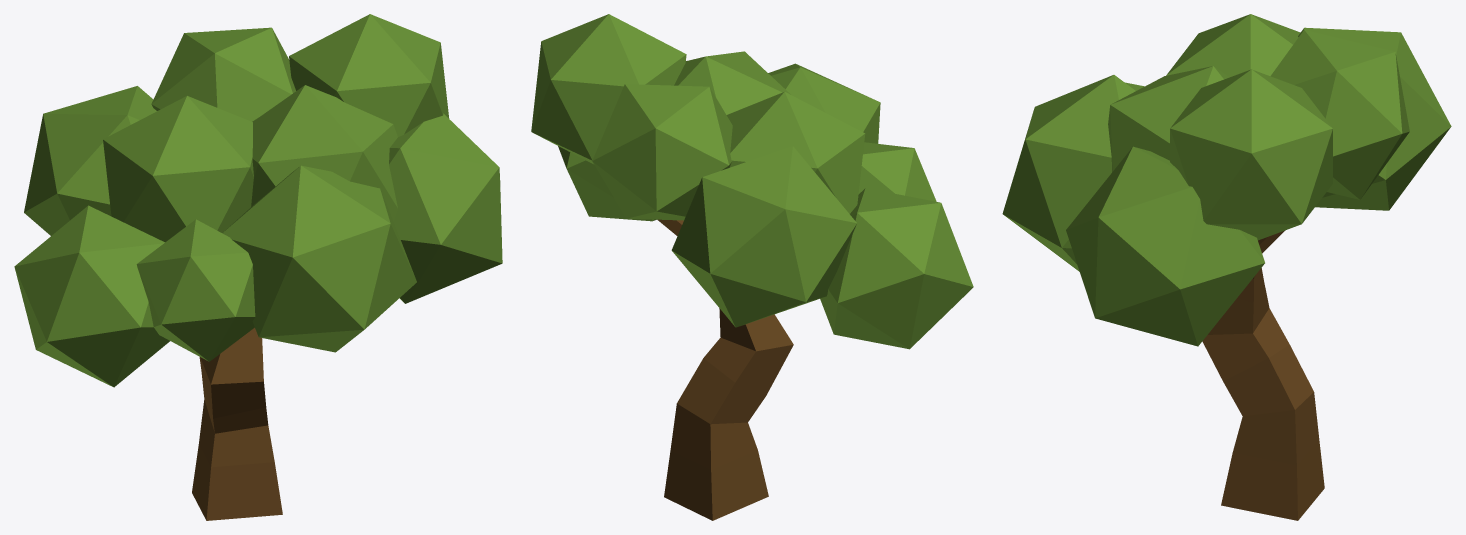
File: tree.fbx
The picture shows the model from 3 angles, left to right: view 1: azimuth 30°, elevation 25°; view 2: azimuth 150°, elevation 25°; view 3: azimuth 270°, elevation 25°; orthographic projection. The views are drawn at different scales.
Visible parts, largest first — view 1: Icosphere.005, Icosphere.003, Icosphere.006, Icosphere.004, Cube, Icosphere, Icosphere.008, Icosphere.007, Icosphere.002, Icosphere.001; view 2: Icosphere.002, Icosphere.003, Cube, Icosphere.001, Icosphere, Icosphere.006, Icosphere.007, Icosphere.005, Icosphere.008, Icosphere.004; view 3: Icosphere.004, Icosphere, Cube, Icosphere.001, Icosphere.005, Icosphere.002, Icosphere.007, Icosphere.006.
Boxes of the visible parts, x1=… form: Icosphere.005: x1=222, y1=165, x2=416, y2=352; Icosphere.003: x1=14, y1=205, x2=169, y2=387; Icosphere.006: x1=103, y1=96, x2=253, y2=242; Icosphere.004: x1=389, y1=113, x2=502, y2=303; Cube: x1=192, y1=327, x2=282, y2=520; Icosphere: x1=289, y1=14, x2=449, y2=136; Icosphere.008: x1=136, y1=219, x2=255, y2=361; Icosphere.007: x1=251, y1=85, x2=397, y2=220; Icosphere.002: x1=24, y1=86, x2=156, y2=235; Icosphere.001: x1=151, y1=27, x2=295, y2=121; Icosphere.002: x1=671, y1=146, x2=856, y2=327; Icosphere.003: x1=820, y1=188, x2=973, y2=349; Cube: x1=657, y1=219, x2=793, y2=520; Icosphere.001: x1=592, y1=84, x2=732, y2=220; Icosphere: x1=531, y1=14, x2=686, y2=164; Icosphere.006: x1=726, y1=91, x2=865, y2=213; Icosphere.007: x1=674, y1=51, x2=790, y2=114; Icosphere.005: x1=768, y1=63, x2=880, y2=143; Icosphere.008: x1=858, y1=142, x2=936, y2=201; Icosphere.004: x1=558, y1=146, x2=656, y2=221; Icosphere.004: x1=1066, y1=146, x2=1264, y2=346; Icosphere: x1=1170, y1=69, x2=1332, y2=240; Cube: x1=1202, y1=230, x2=1324, y2=520; Icosphere.001: x1=1270, y1=30, x2=1409, y2=199; Icosphere.005: x1=1002, y1=75, x2=1135, y2=271; Icosphere.002: x1=1298, y1=27, x2=1451, y2=210; Icosphere.007: x1=1108, y1=66, x2=1229, y2=172; Icosphere.006: x1=1166, y1=14, x2=1300, y2=76.
Bounding box in the file's own units: 669 × 670 × 553.
